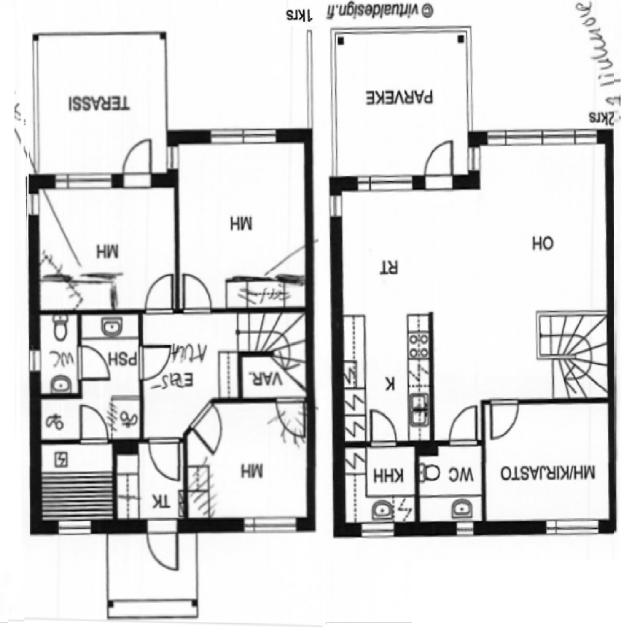door: (329, 28, 469, 179), (144, 520, 182, 576), (420, 137, 457, 190), (146, 436, 184, 485), (119, 136, 155, 187), (486, 396, 523, 444), (446, 401, 483, 447), (188, 400, 222, 449), (143, 270, 178, 316), (77, 402, 112, 447), (180, 270, 214, 316), (136, 343, 174, 384), (75, 344, 112, 384), (367, 406, 400, 449)
window: (35, 441, 117, 526), (482, 126, 591, 152), (28, 36, 46, 169), (350, 170, 419, 196), (207, 124, 281, 148), (49, 168, 116, 192), (539, 124, 600, 149), (238, 514, 302, 536), (540, 517, 603, 538), (356, 521, 398, 541), (54, 520, 96, 537), (465, 143, 483, 176), (24, 188, 41, 222), (327, 190, 344, 222), (25, 346, 42, 378), (165, 142, 180, 174), (452, 521, 478, 539)
zone: (474, 139, 610, 313), (175, 138, 308, 309), (34, 186, 176, 312), (485, 400, 612, 529), (344, 190, 474, 314), (186, 401, 309, 525), (341, 314, 433, 445), (76, 311, 142, 438), (36, 442, 117, 526), (341, 442, 418, 530), (416, 442, 485, 526), (34, 312, 80, 394), (240, 352, 308, 400)
